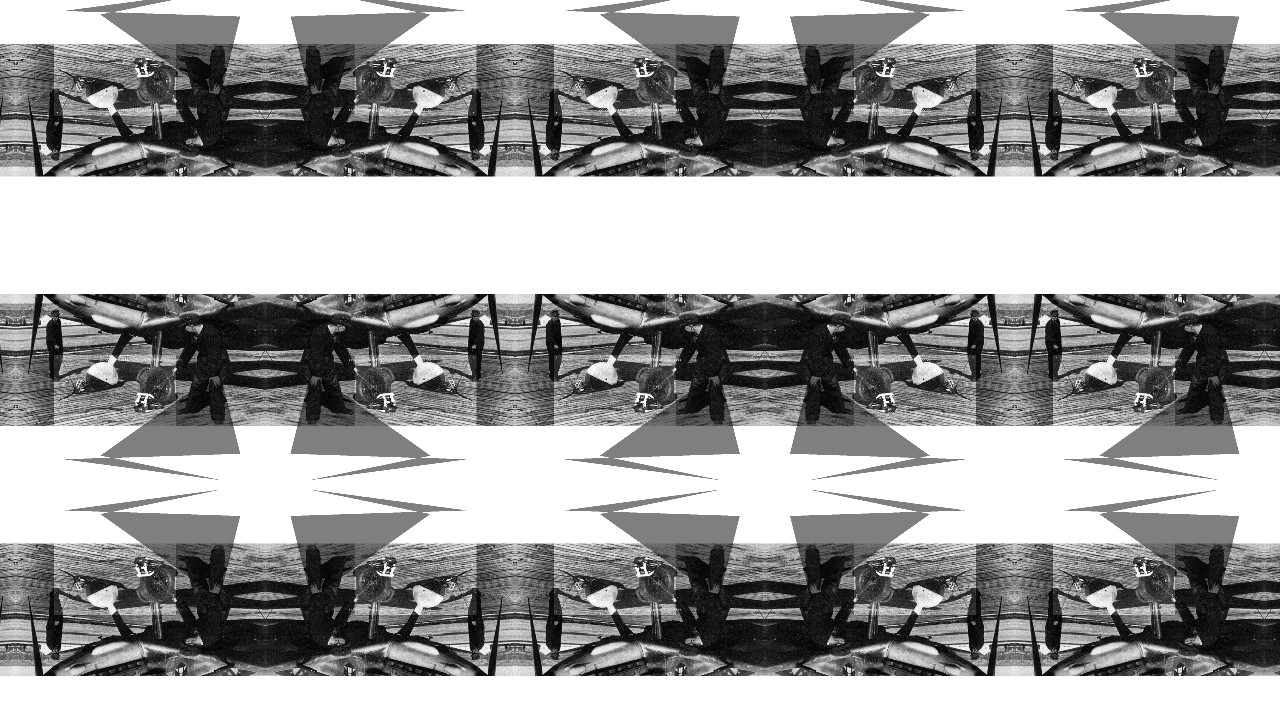chock: (133, 56, 164, 78), (366, 56, 397, 78), (633, 56, 664, 78), (866, 56, 897, 78), (1133, 56, 1164, 78), (133, 392, 164, 414), (366, 392, 397, 414), (633, 392, 664, 414), (866, 392, 897, 414), (1133, 392, 1164, 414), (133, 556, 164, 578), (366, 556, 397, 578), (633, 556, 664, 578), (866, 556, 897, 578), (1133, 556, 1164, 578), (71, 74, 95, 93), (435, 74, 459, 93), (571, 74, 595, 93), (935, 74, 959, 93), (1071, 74, 1095, 93), (71, 377, 95, 396), (435, 377, 459, 396), (571, 377, 595, 396), (935, 377, 959, 396), (1071, 377, 1095, 396), (71, 574, 95, 592), (435, 574, 459, 592), (571, 574, 595, 592), (935, 574, 959, 592), (1071, 574, 1095, 592)
wheel: (353, 366, 395, 406), (853, 366, 895, 406), (353, 564, 395, 604), (853, 564, 895, 604), (135, 366, 176, 406), (635, 366, 676, 406), (1135, 366, 1176, 406), (135, 564, 176, 604), (635, 564, 676, 604), (1135, 564, 1176, 604), (353, 65, 395, 104), (853, 65, 895, 104), (135, 65, 176, 104), (635, 65, 676, 104), (1135, 65, 1176, 104), (84, 80, 118, 110), (412, 80, 446, 110), (584, 80, 618, 110), (912, 80, 946, 110), (1084, 80, 1118, 110), (84, 360, 118, 390), (412, 360, 446, 390), (584, 360, 618, 390), (912, 360, 946, 390), (1084, 360, 1118, 390), (84, 580, 118, 610), (412, 580, 446, 610), (584, 580, 618, 610), (912, 580, 946, 610), (1084, 580, 1118, 610)
